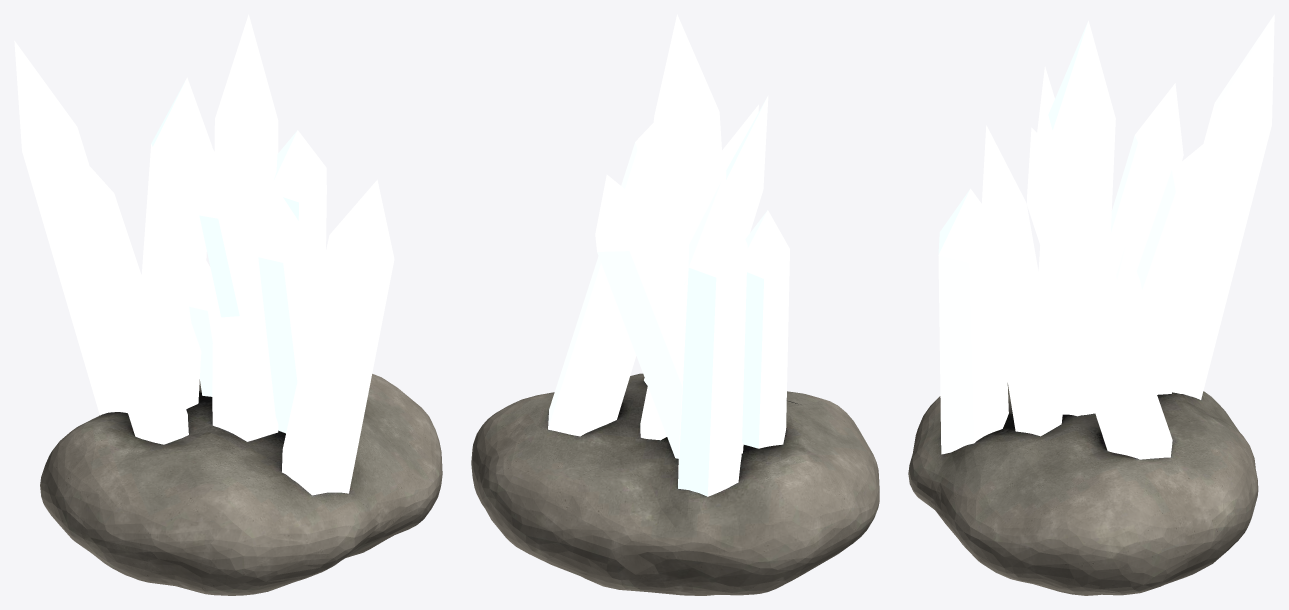
File: dg_cristais_cal.glb
3 views of the same model, side by side, from view 1: azimuth 30°, elevation 25°; view 2: azimuth 150°, elevation 25°; view 3: azimuth 270°, elevation 25° (orthographic). The views are drawn at different scales.
Parts seen in each view (by area): view 1: dg_cristais_cal_tronco, cr7, cr6, cr5, cr4, cr3, cr8, cr0, cr1, cr2; view 2: dg_cristais_cal_tronco, cr3, cr4, cr6, cr1, cr5, cr0, cr2, cr8; view 3: dg_cristais_cal_tronco, cr1, cr7, cr4, cr3, cr8, cr6, cr5, cr2, cr0.
Part boxes in pixels (bbox=[...]): dg_cristais_cal_tronco: bbox=[40, 374, 442, 595]; cr7: bbox=[282, 179, 394, 495]; cr6: bbox=[212, 14, 278, 441]; cr5: bbox=[65, 144, 188, 444]; cr4: bbox=[141, 77, 212, 409]; cr3: bbox=[14, 40, 127, 415]; cr8: bbox=[257, 180, 315, 433]; cr0: bbox=[198, 127, 251, 317]; cr1: bbox=[273, 130, 326, 296]; cr2: bbox=[189, 250, 213, 396]; dg_cristais_cal_tronco: bbox=[471, 373, 879, 595]; cr3: bbox=[678, 180, 747, 496]; cr4: bbox=[595, 174, 743, 458]; cr6: bbox=[652, 14, 723, 283]; cr1: bbox=[548, 123, 655, 436]; cr5: bbox=[742, 210, 789, 448]; cr0: bbox=[723, 95, 768, 238]; cr2: bbox=[640, 280, 687, 440]; cr8: bbox=[644, 104, 758, 385]; dg_cristais_cal_tronco: bbox=[908, 383, 1258, 595]; cr1: bbox=[1027, 127, 1172, 459]; cr7: bbox=[938, 188, 1008, 454]; cr4: bbox=[1136, 132, 1232, 394]; cr3: bbox=[1172, 14, 1274, 399]; cr8: bbox=[982, 125, 1062, 436]; cr6: bbox=[1038, 20, 1115, 397]; cr5: bbox=[1109, 83, 1183, 275]; cr2: bbox=[1116, 244, 1148, 369]; cr0: bbox=[1037, 66, 1094, 416].
Bounding box in the file's own units: 1.18 × 1.68 × 1.05.
10 materials, 1 textured.
